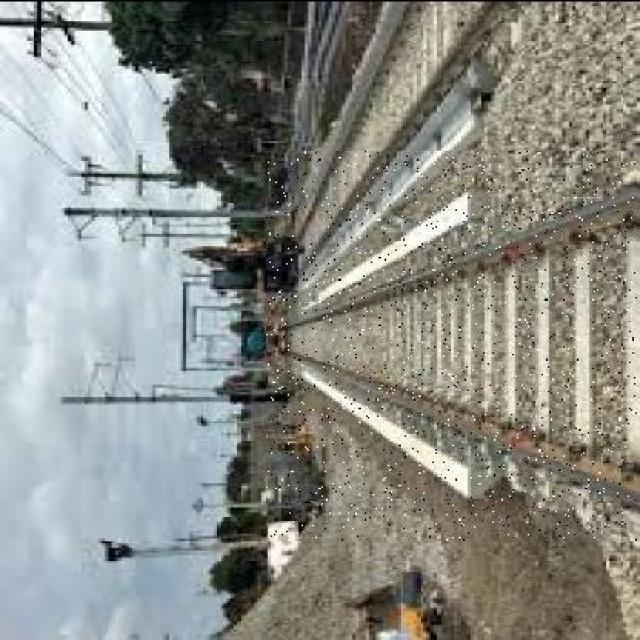rail: (267, 150, 637, 538)
